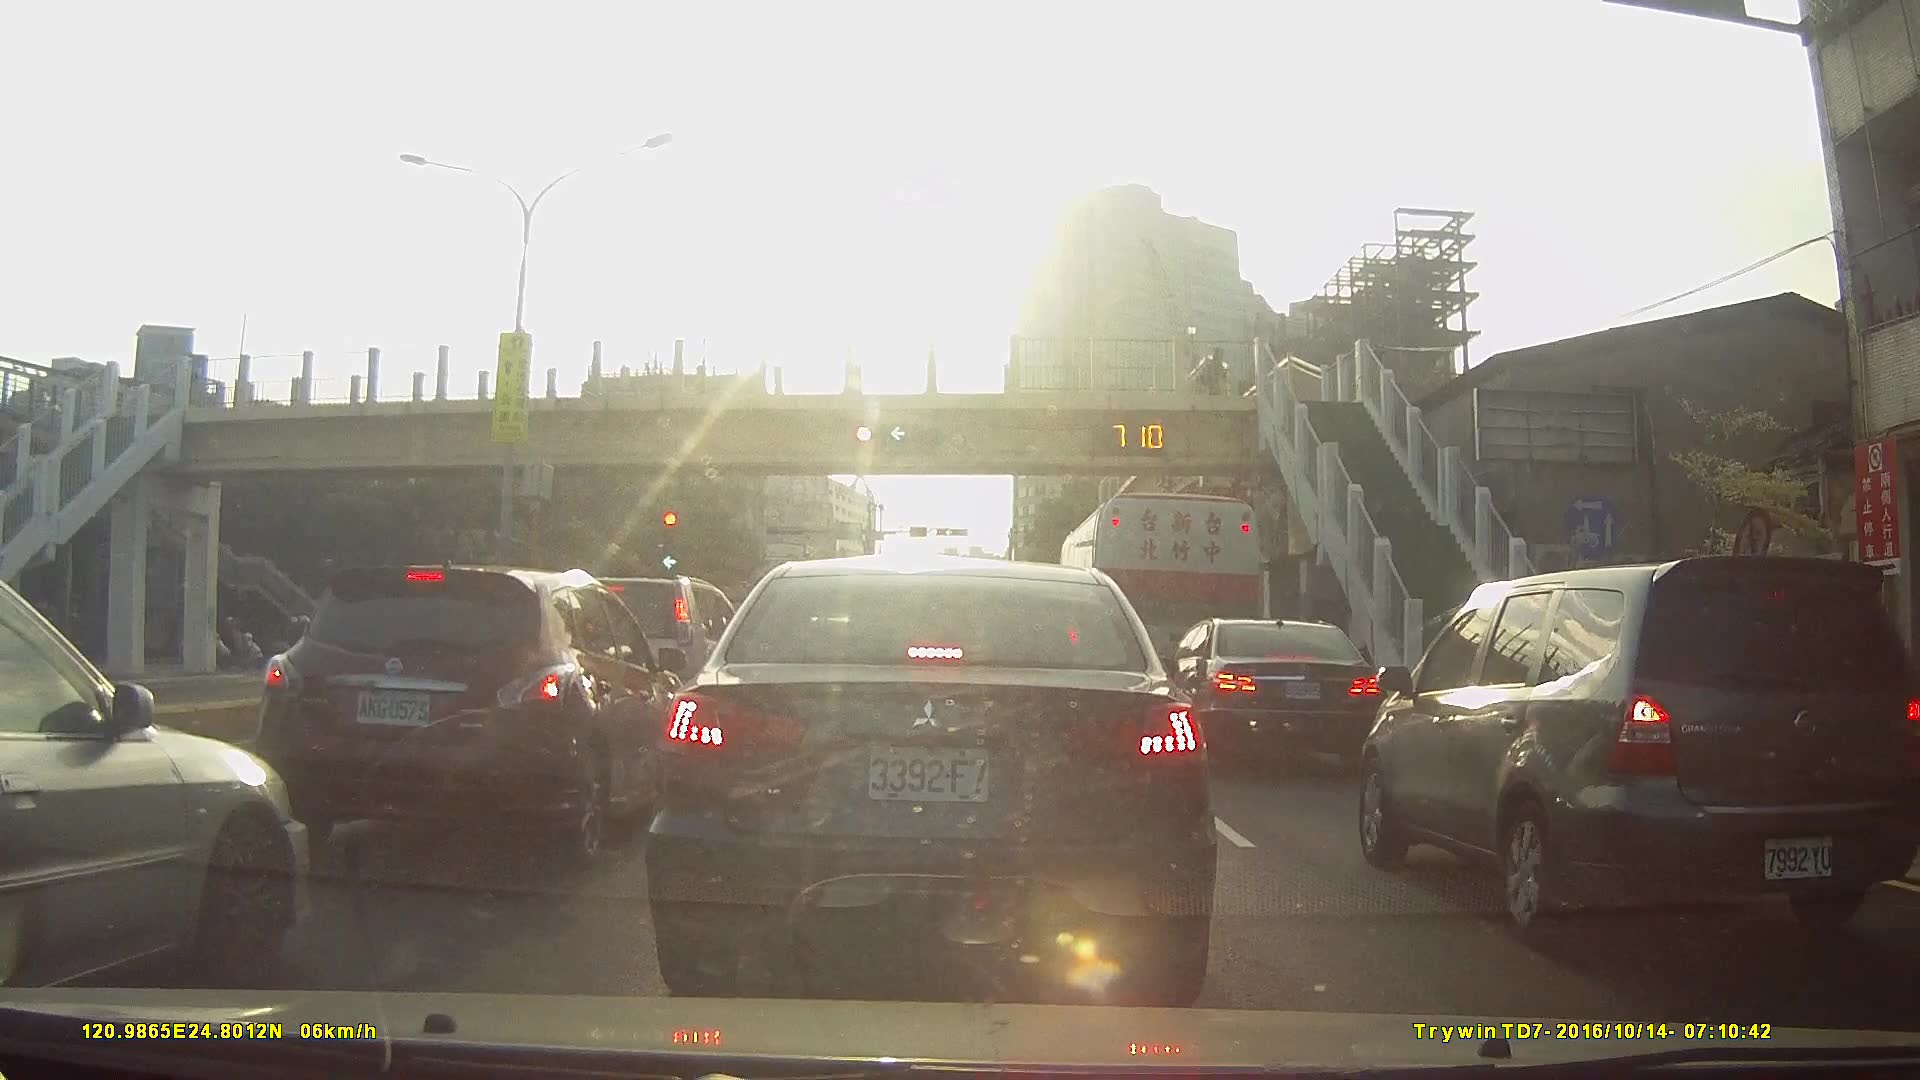pedestrian: (1200, 346, 1227, 403)
rider: (209, 613, 267, 669)
vehicle: (643, 552, 1218, 1004), (1356, 555, 1914, 941), (251, 559, 694, 868), (0, 572, 314, 1004), (1057, 487, 1263, 731), (1154, 614, 1386, 768)
